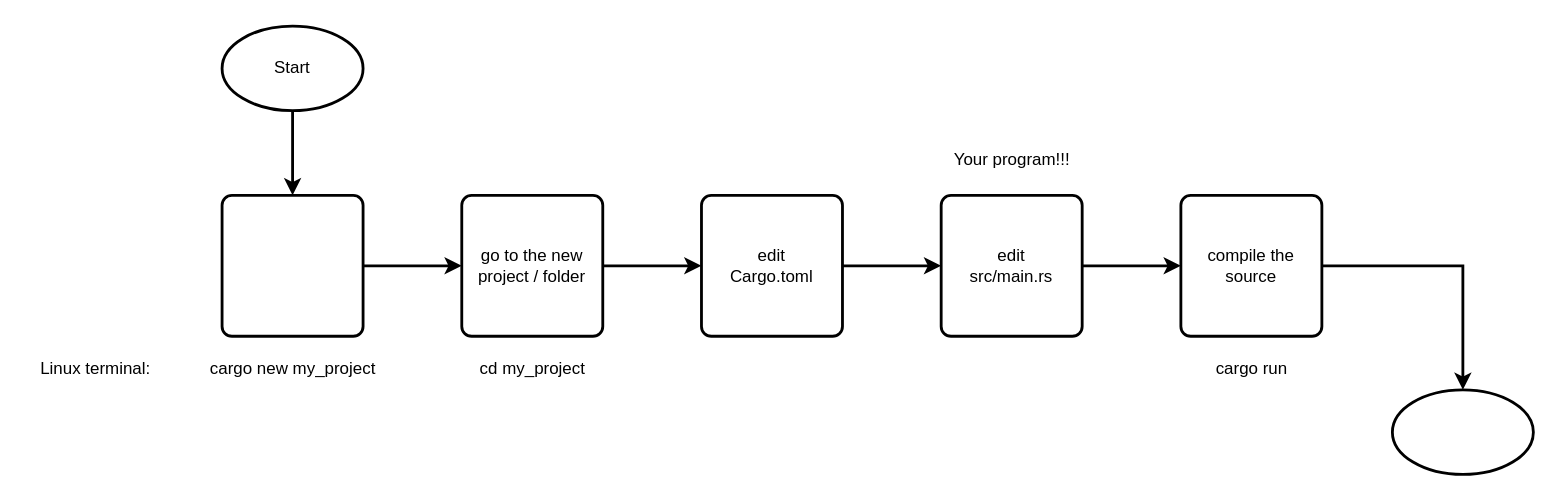
Some shapes in this 1558 by 499 pixel diagram are drawn without their labels. Here are the shapes that lost their labels. From the top down, the centre of each, then its label:
At (x=292, y=265): "create new project".
At (x=1462, y=431): "End".
